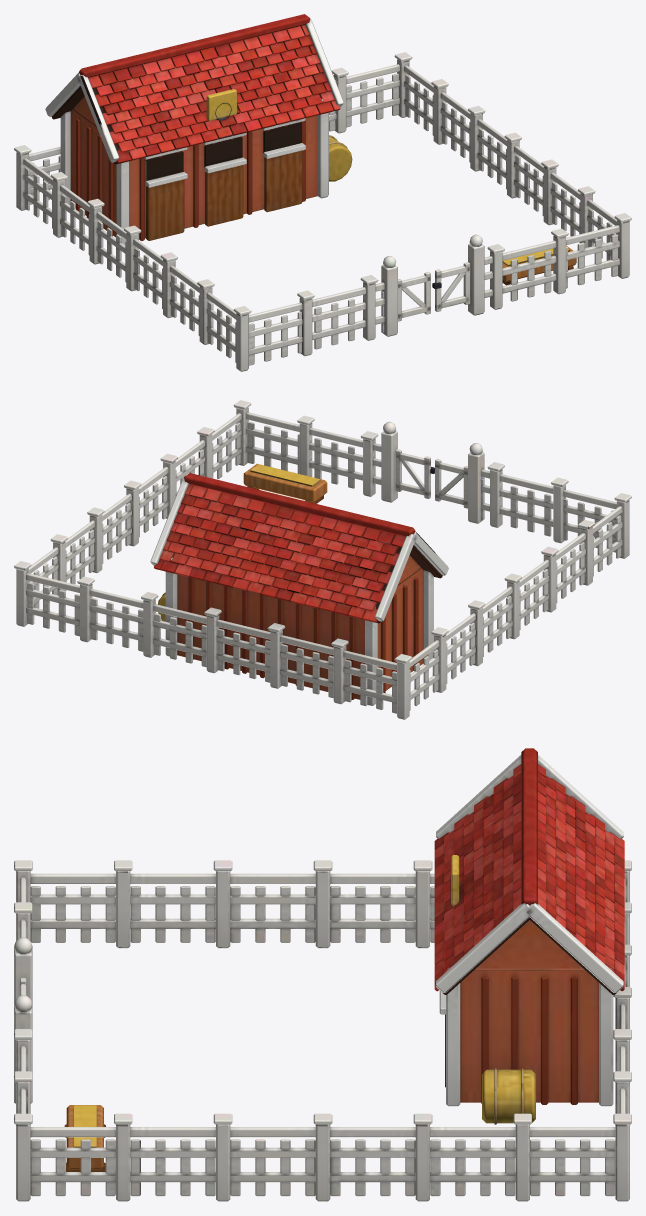
File: pony_paddock.glb
The picture shows the model from 3 angles, top to bottom: view 1: azimuth 30°, elevation 25°; view 2: azimuth 150°, elevation 25°; view 3: azimuth 270°, elevation 25°; orthographic projection. The views are drawn at different scales.
Parts seen in each view (by area): view 1: pony_paddock, gate1, gate0; view 2: pony_paddock, gate1, gate0; view 3: pony_paddock.
Boxes of the visible parts, x1=… form: pony_paddock: x1=14, y1=14, x2=631, y2=371; gate1: x1=432, y1=262, x2=470, y2=311; gate0: x1=398, y1=271, x2=430, y2=321; pony_paddock: x1=14, y1=400, x2=631, y2=719; gate1: x1=395, y1=449, x2=434, y2=498; gate0: x1=435, y1=458, x2=467, y2=508; pony_paddock: x1=14, y1=748, x2=631, y2=1201.
Size of the model in its own units: 2.99 by 1.16 by 2.99.
Materials: 1 (1 with a texture image).
